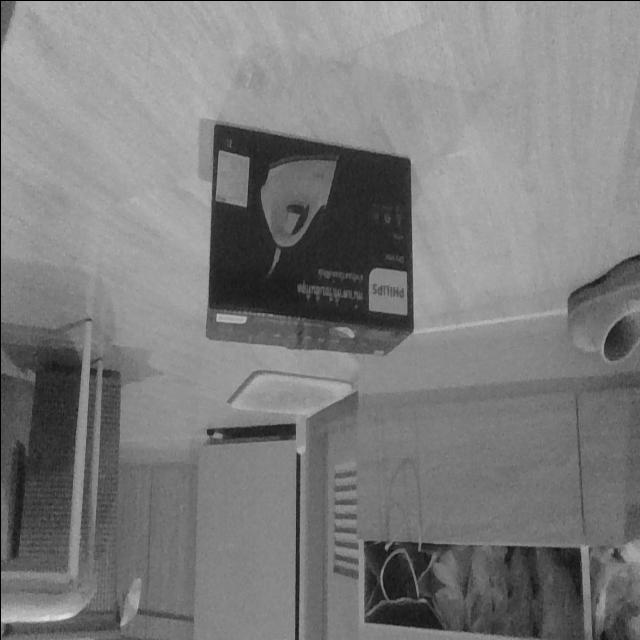IRON: (202, 119, 416, 360)
